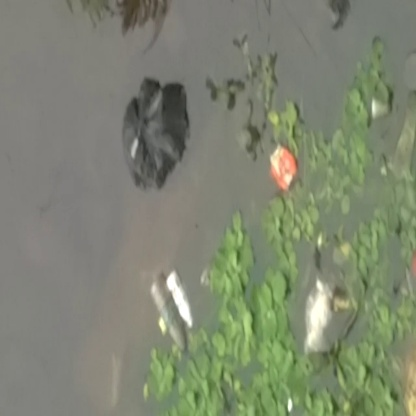plastic-bag: (116, 74, 201, 185)
